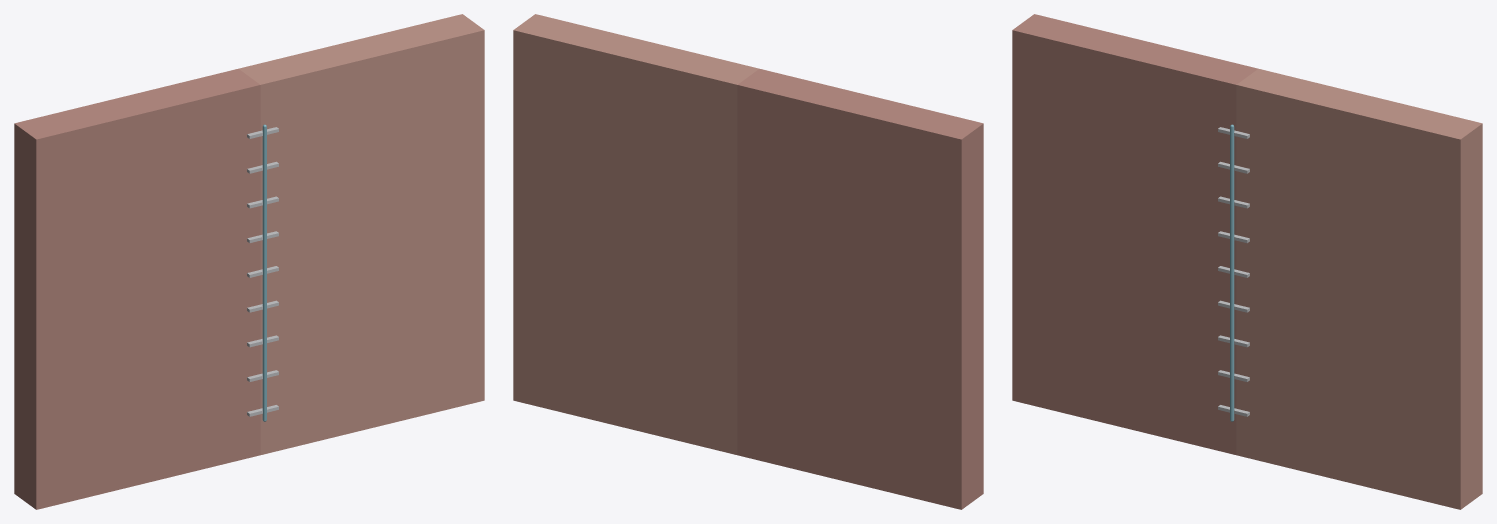
The model's file is dranmar_rescue_abdominal_wall_stapled_sealed.glb.
3 renders of one model, left to right at view 1: azimuth 30°, elevation 25°; view 2: azimuth 150°, elevation 25°; view 3: azimuth 330°, elevation 25°, orthographic.
Visible parts, largest first — view 1: LeftWall, RightWall, Adhesive; view 2: LeftWall, RightWall; view 3: RightWall, LeftWall, Adhesive.
Boxes of the visible parts, x1,y1,x2,y2 form: LeftWall: (14,68,260,509); RightWall: (239,14,484,454); Adhesive: (262,124,266,421); LeftWall: (737,68,983,509); RightWall: (513,14,758,454); RightWall: (1236,68,1482,509); LeftWall: (1012,14,1257,454); Adhesive: (1230,124,1234,421).
Size of the model in its own units: 0.304 by 0.24 by 0.0322.
